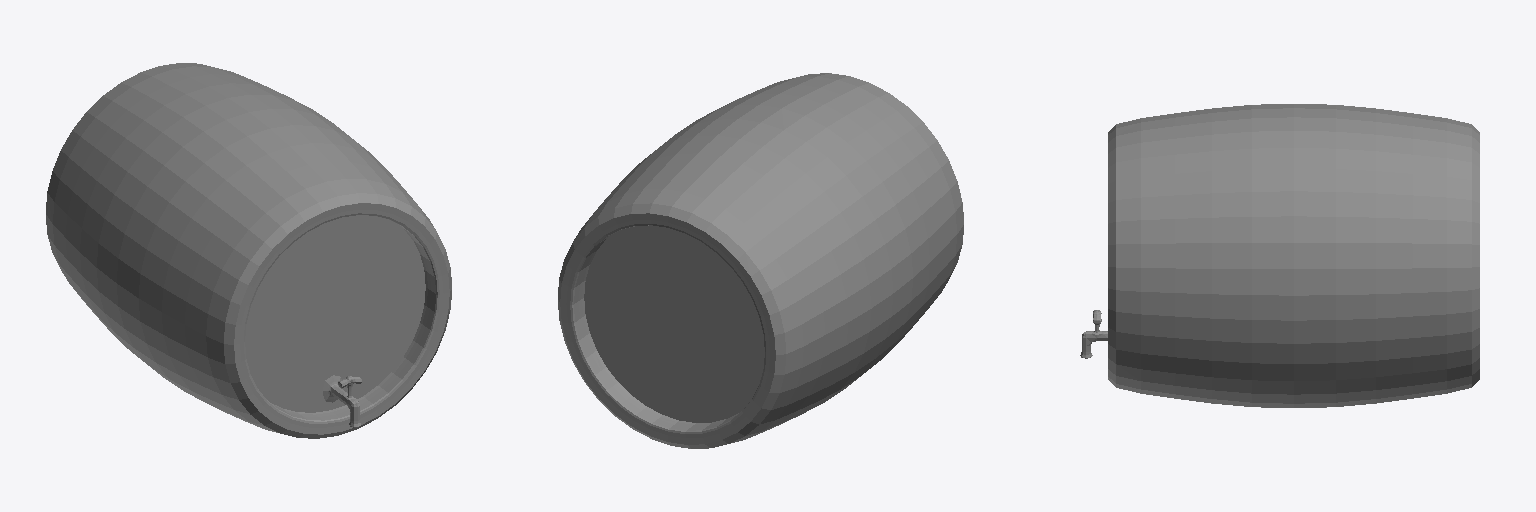
File: barrel.obj
3 renders of one model, left to right at view 1: azimuth 30°, elevation 25°; view 2: azimuth 150°, elevation 25°; view 3: azimuth 270°, elevation 25°, orthographic.
Visible parts, largest first — view 1: Cylinder01; view 2: Cylinder01; view 3: Cylinder01.
Boxes of the visible parts, <box> form: Cylinder01: <box>46,63,451,438</box>; Cylinder01: <box>558,73,963,448</box>; Cylinder01: <box>1080,104,1479,407</box>.
Bounding box in the file's own units: 260 × 260 × 339.